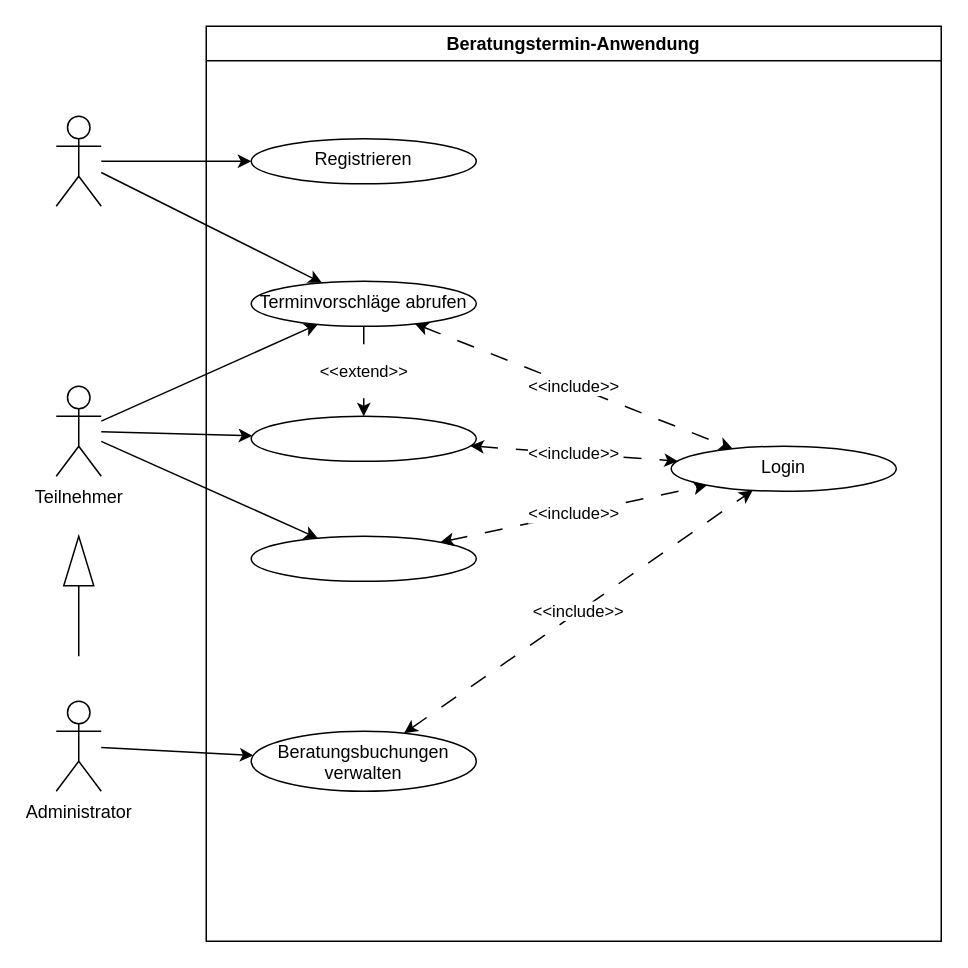
Some shapes in this 968 by 968 pixel diagram are drawn without their labels. The shapes that lost their labels are listed below. From the top down, each one's centre as x and y in pixels, then its label:
the point at 78,160: Besucher
the point at 363,438: Beratung buchen
the point at 363,558: Daten bearbeiten
